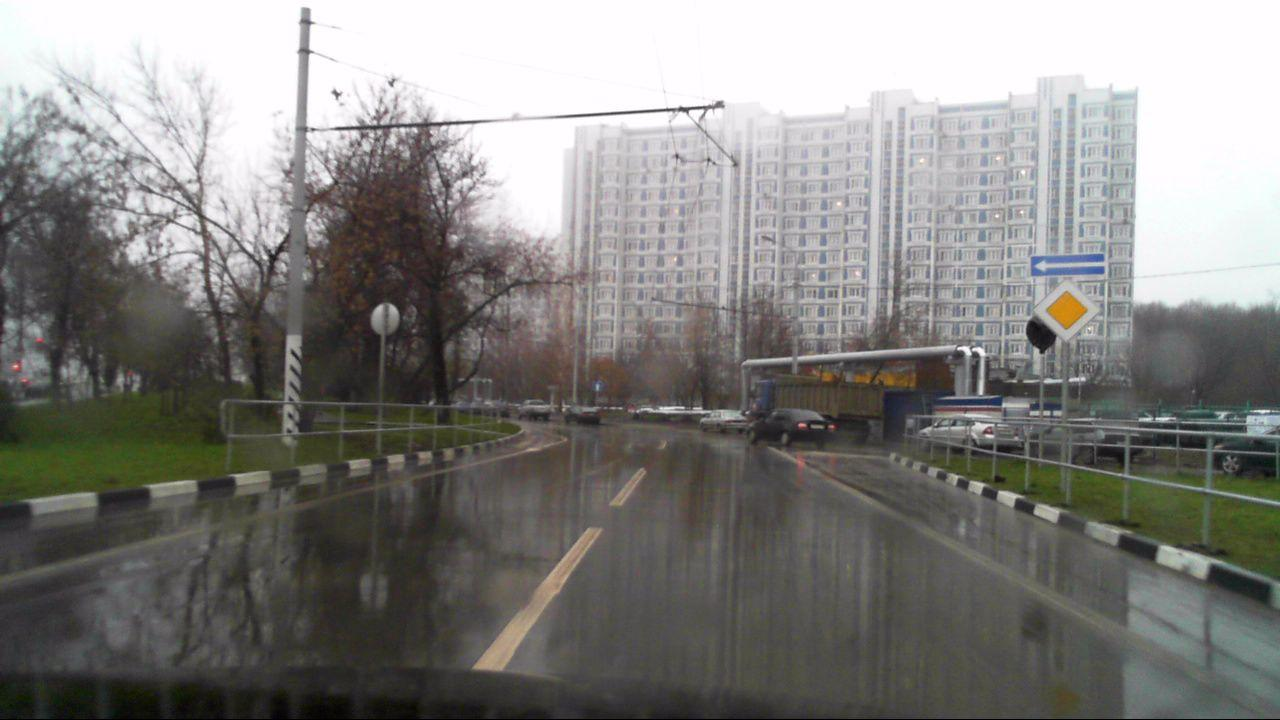2_1: (1035, 290, 1102, 340)
5_5: (591, 381, 604, 392)
5_7_2: (1029, 255, 1105, 277)
